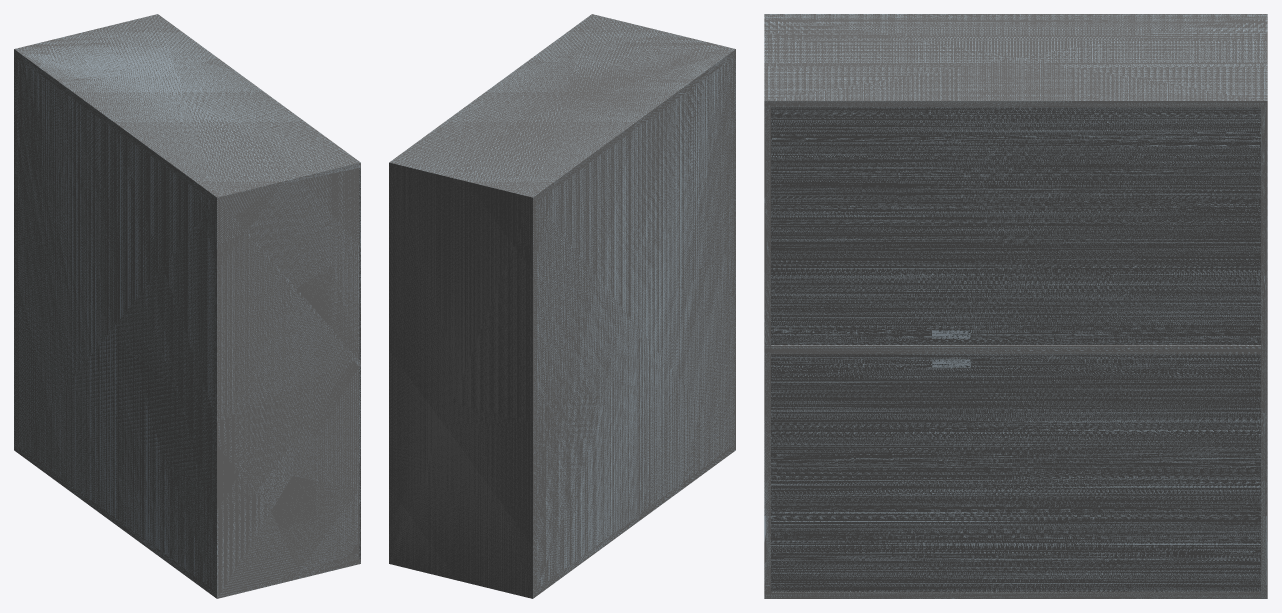
The model's file is cabinet.fbx.
3 renders of one model, left to right at view 1: azimuth 30°, elevation 25°; view 2: azimuth 150°, elevation 25°; view 3: azimuth 270°, elevation 25°, orthographic. The views are drawn at different scales.
Visible parts, largest first — view 1: Group1; view 2: Group1; view 3: Group1.
Boxes of the visible parts, <box> form: Group1: <box>14,14,360,598</box>; Group1: <box>389,14,735,598</box>; Group1: <box>764,14,1267,598</box>.
Bounding box in the file's own units: 450 × 1200 × 1100.
